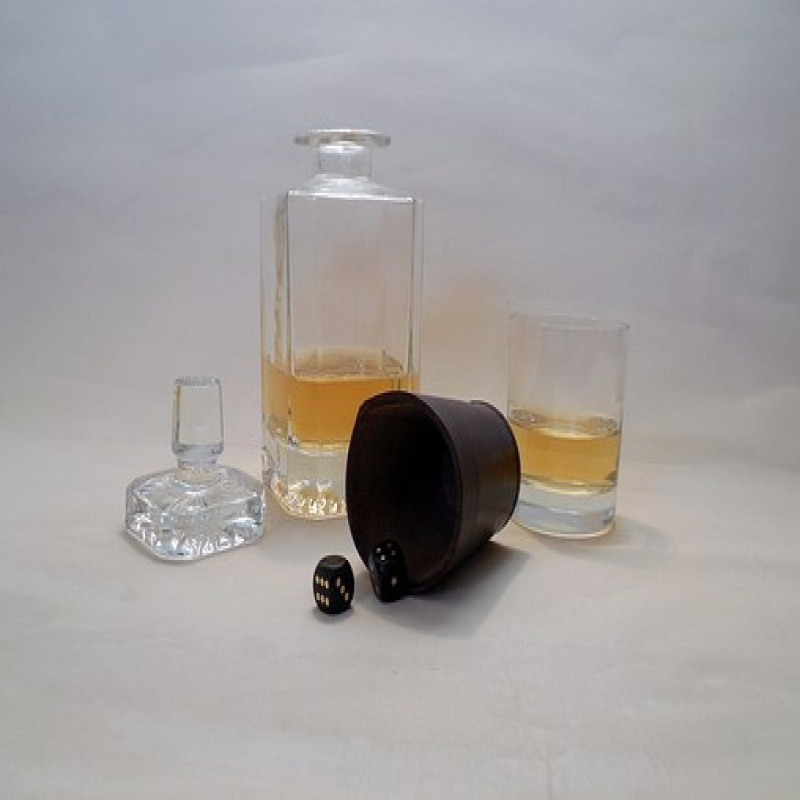whiskey: (500, 314, 644, 538)
